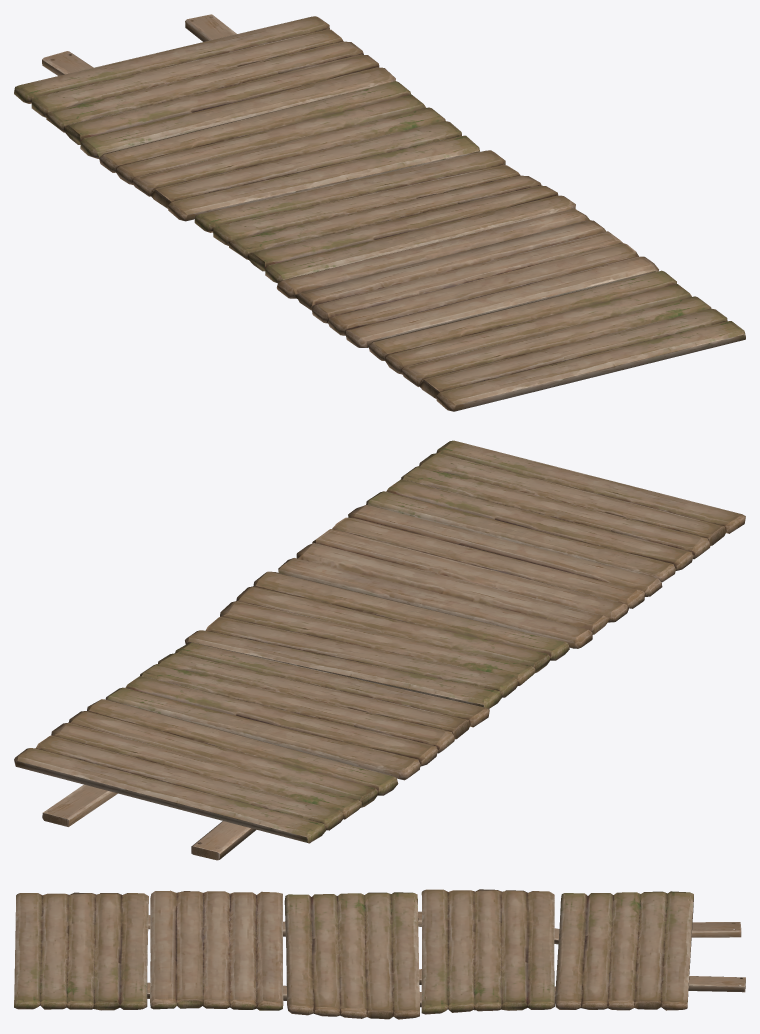
The model's file is Scaffolding_path_01.fbx.
3 renders of one model, top to bottom at view 1: azimuth 30°, elevation 25°; view 2: azimuth 150°, elevation 25°; view 3: azimuth 270°, elevation 25°, orthographic. The views are drawn at different scales.
Visible parts, largest first — view 1: Scaffolding_path_01_LOD0; view 2: Scaffolding_path_01_LOD0; view 3: Scaffolding_path_01_LOD0.
Part boxes in pixels (x1=…): Scaffolding_path_01_LOD0: x1=14, y1=14, x2=745, y2=411; Scaffolding_path_01_LOD0: x1=14, y1=440, x2=745, y2=860; Scaffolding_path_01_LOD0: x1=14, y1=889, x2=745, y2=1019.
Size of what is drawn, in the model's own units: 2.03 by 0.1881 by 5.37.
